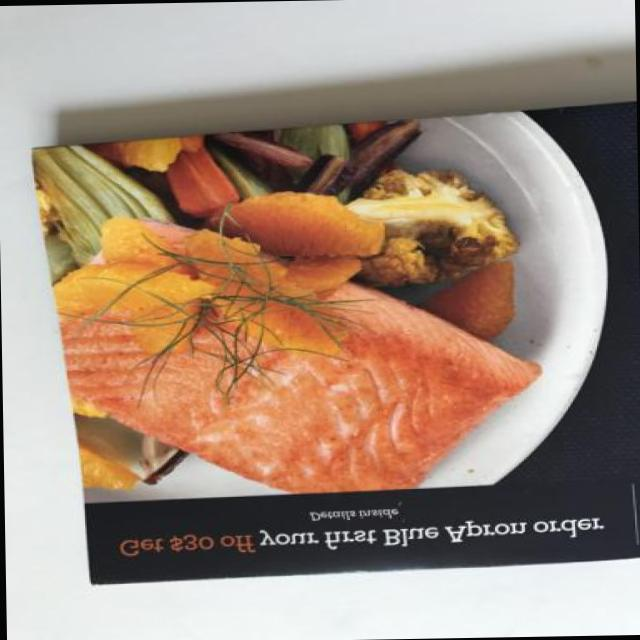paper: (50, 123, 636, 568)
